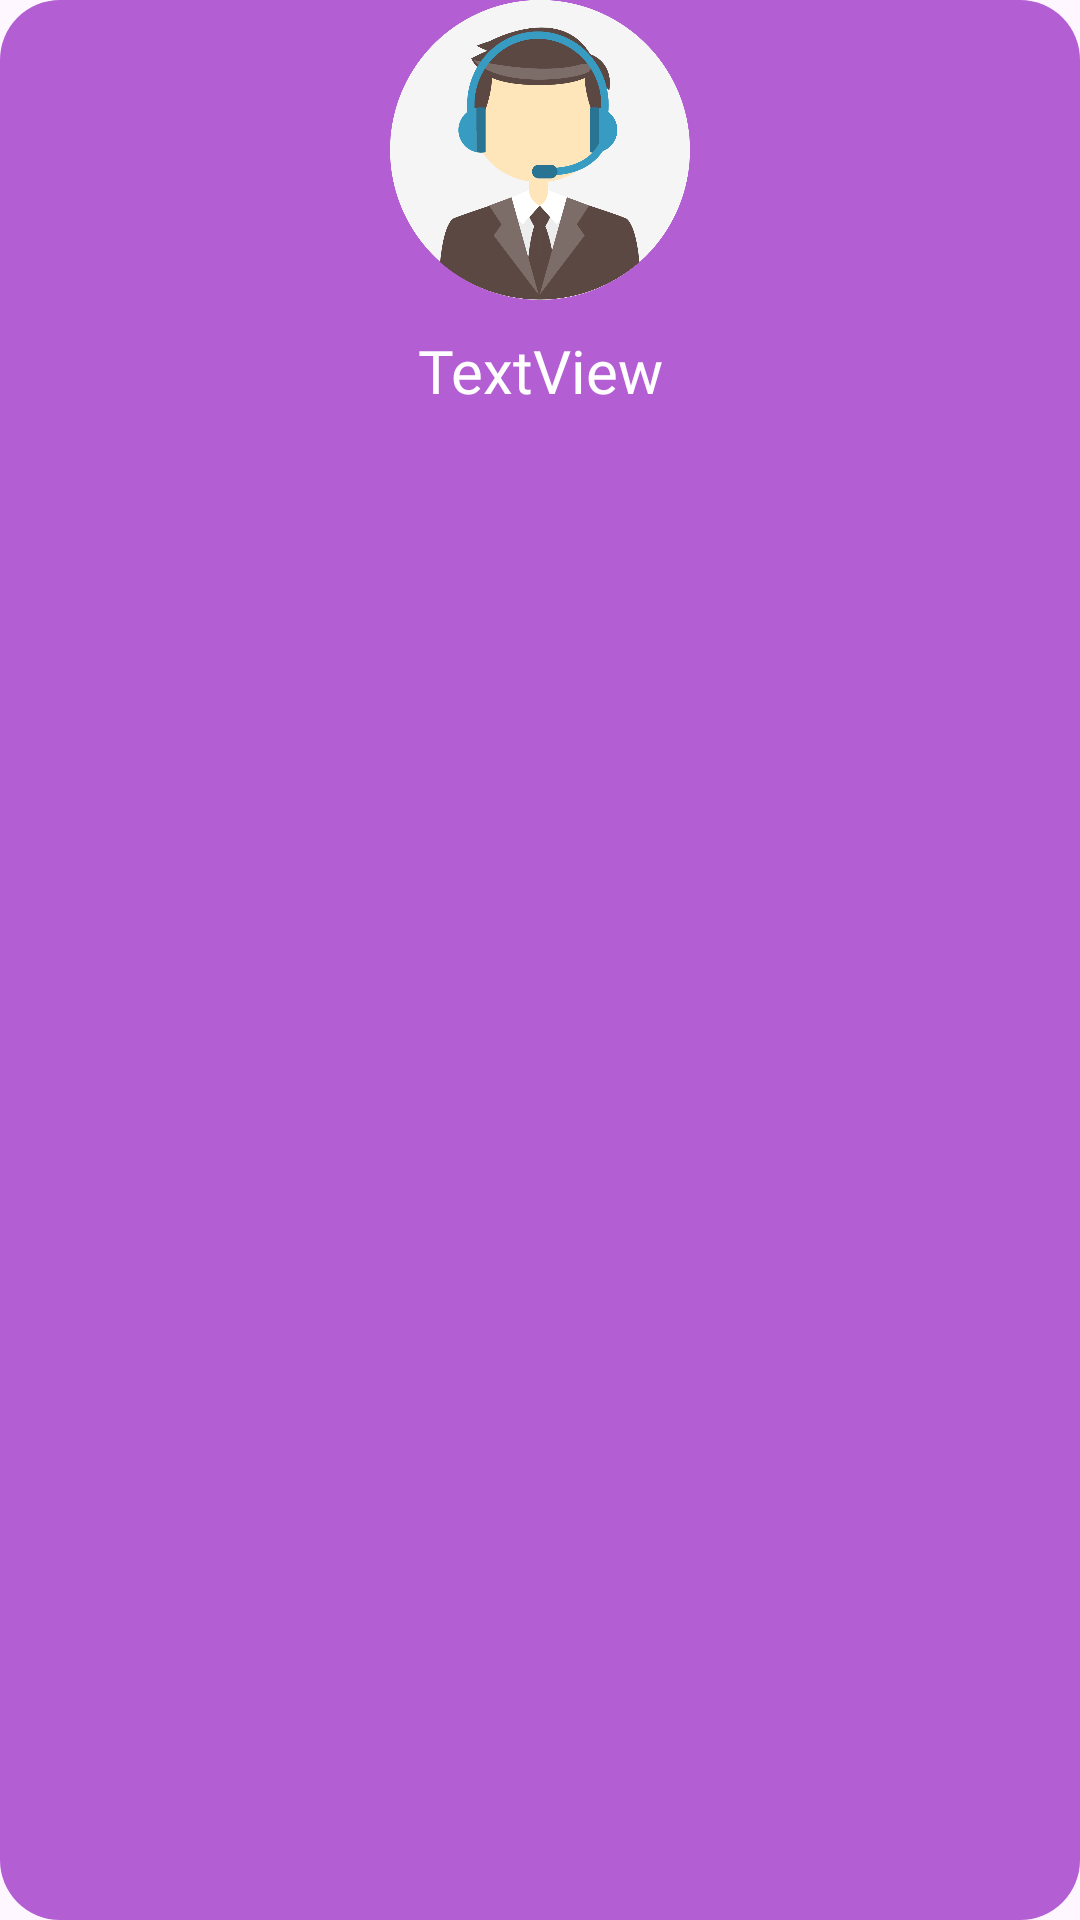

Named icons in this screenshot (1080×1920) and their bounding boxes, bbox=(x1, y1, x2, y2):
admin: bbox=(390, 0, 690, 300)
